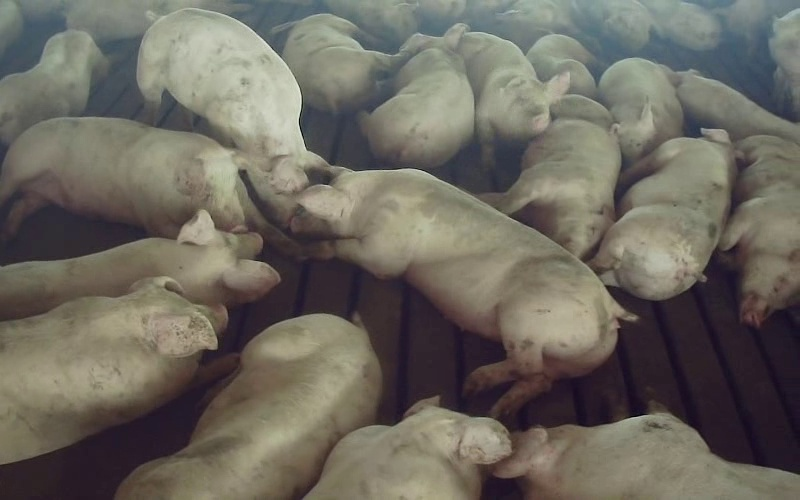pig: (291, 169, 633, 415), (116, 314, 381, 499), (0, 276, 236, 463), (137, 8, 327, 228), (0, 210, 279, 320), (493, 412, 799, 499), (590, 129, 735, 300), (479, 95, 620, 259), (304, 397, 511, 499), (360, 24, 473, 168), (719, 135, 799, 326), (458, 32, 569, 168), (272, 14, 409, 113), (0, 30, 108, 144), (677, 71, 799, 144), (598, 58, 682, 164), (527, 34, 596, 98)
